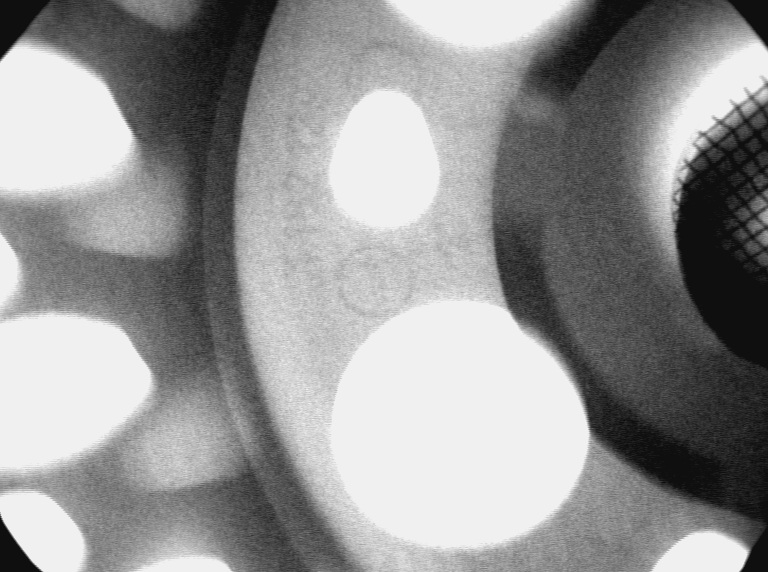defect: (514, 84, 571, 135)
